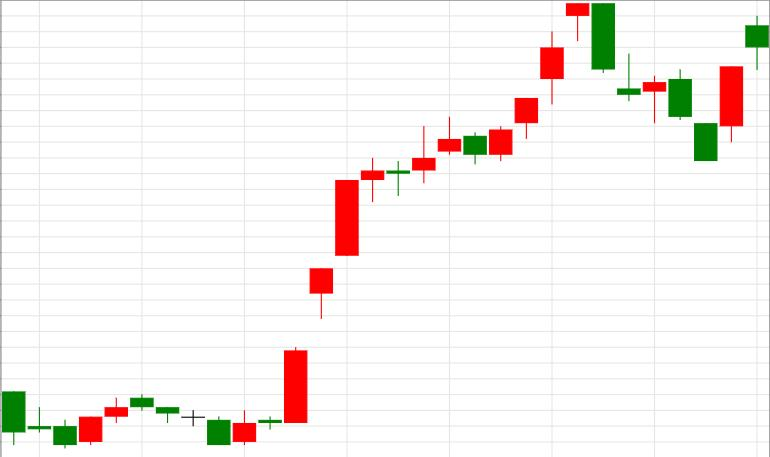bearish_engulfing_fall: (285, 3, 615, 422)
